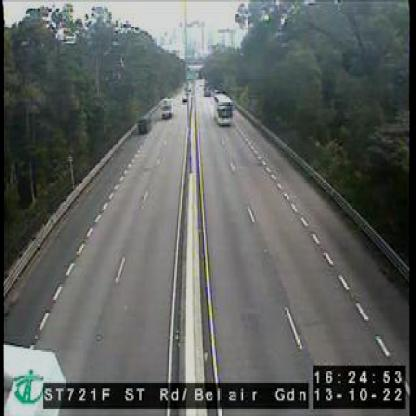Bus: (214, 93, 234, 127)
Car: (137, 113, 153, 136)
Truck: (160, 98, 174, 119)
